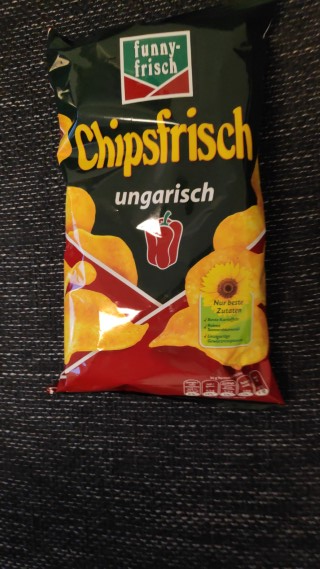chipsfrisch: (43, 1, 288, 410)
